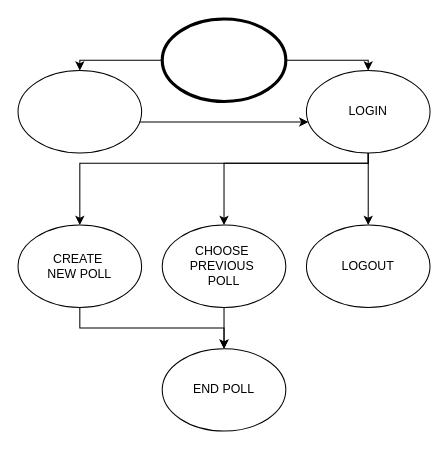
The diagram is 448 pixels wide and 449 high, and some of its shapes have lost their labels. Each missing label, with the box of its shape:
POLL-CREATING USER: (160, 17, 287, 102)
REGISTER: (17, 70, 142, 153)
